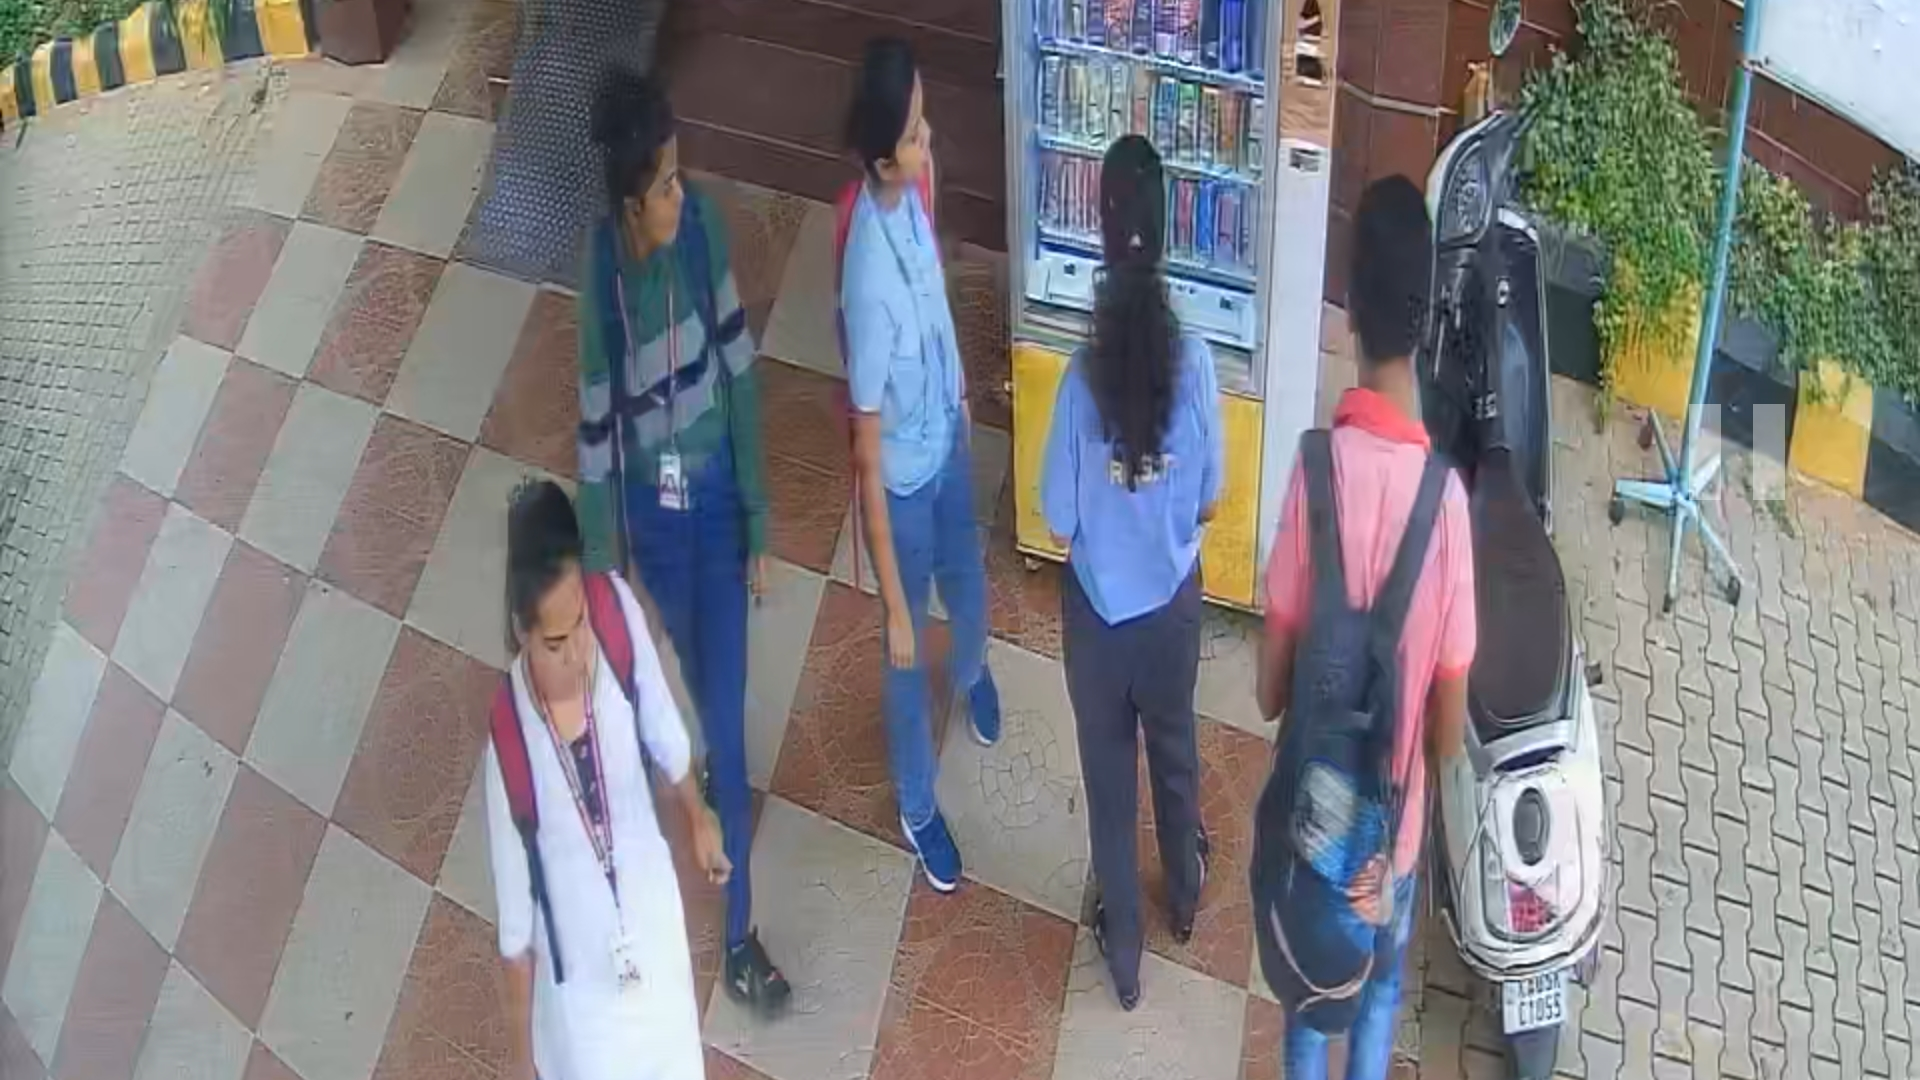intruder: (843, 24, 1030, 893)
not intruder: (580, 51, 804, 1044), (467, 462, 761, 1080)
